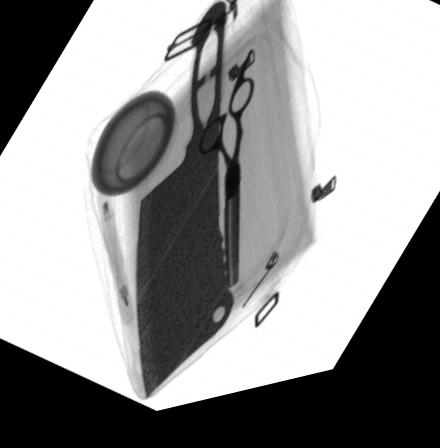Knife: (136, 11, 234, 405)
Scissors: (196, 62, 258, 299)
